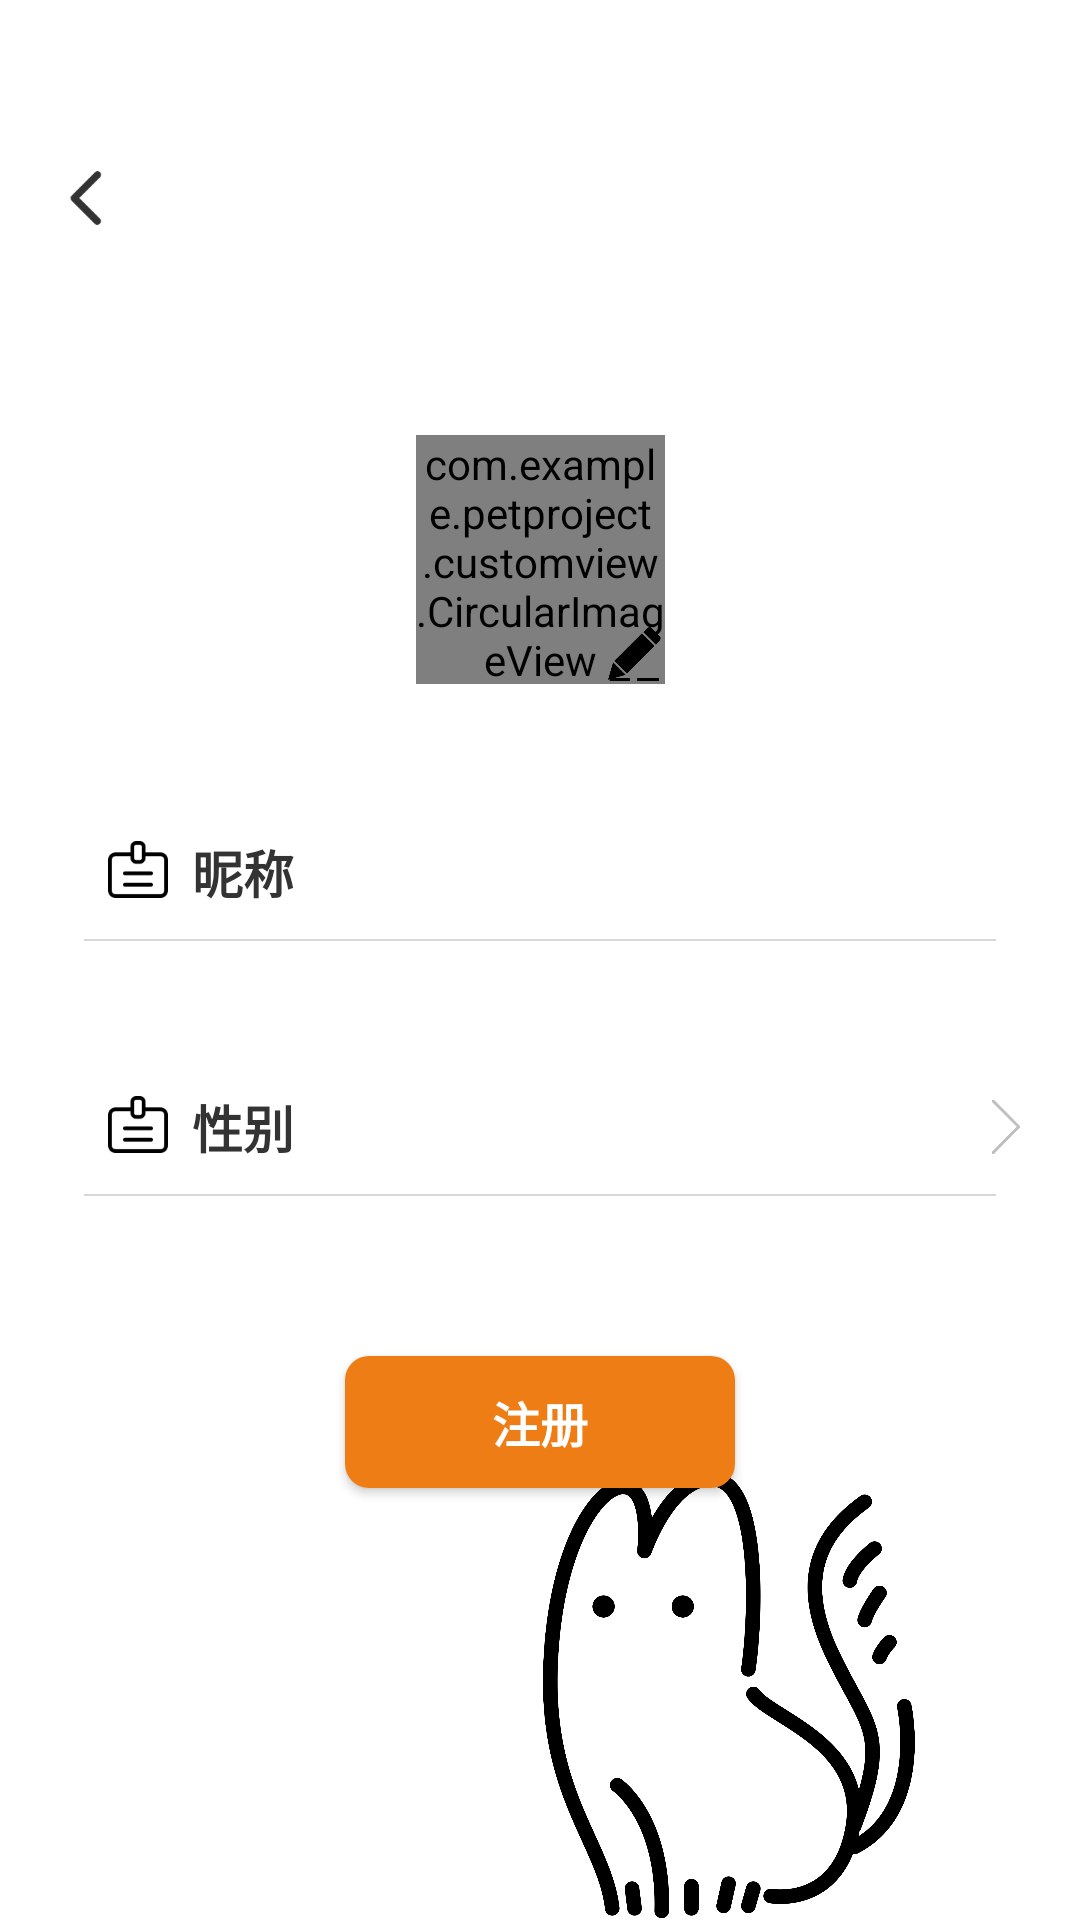

Point at icon controls on the screen. Image size 1080 x 1920, points as point (x, y).
pen: point (635, 654)
rightrow: point (1006, 1127)
title back rtl: point (86, 198)
